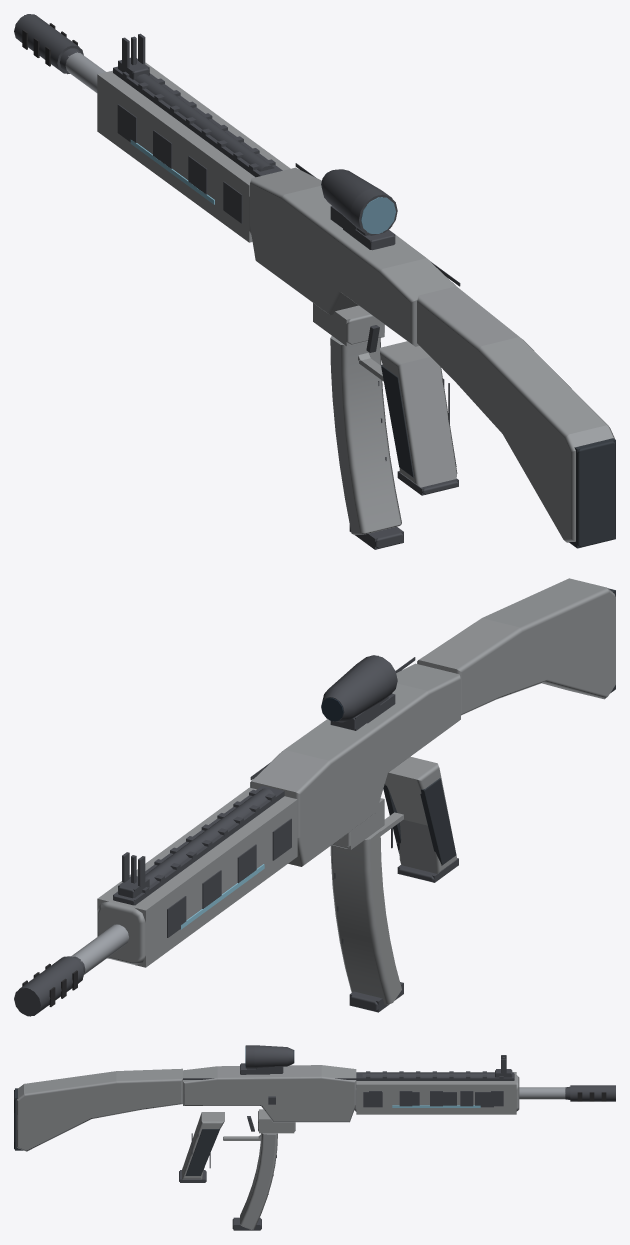
File: a_tundra.glb
The picture shows the model from 3 angles, top to bottom: view 1: azimuth 30°, elevation 25°; view 2: azimuth 150°, elevation 25°; view 3: azimuth 270°, elevation 25°; orthographic projection. The views are drawn at different scales.
Parts seen in each view (by area): view 1: L0, L1; view 2: L0, L1; view 3: L0, L1.
Part boxes in pixels (x1,y1,x2,y2): L0: [14, 14, 615, 548]; L1: [15, 15, 615, 549]; L0: [14, 578, 615, 1016]; L1: [14, 589, 615, 1016]; L0: [14, 1045, 615, 1229]; L1: [15, 1046, 615, 1230].
Bounding box in the file's own units: 0.0522 × 0.3115 × 0.9388.
